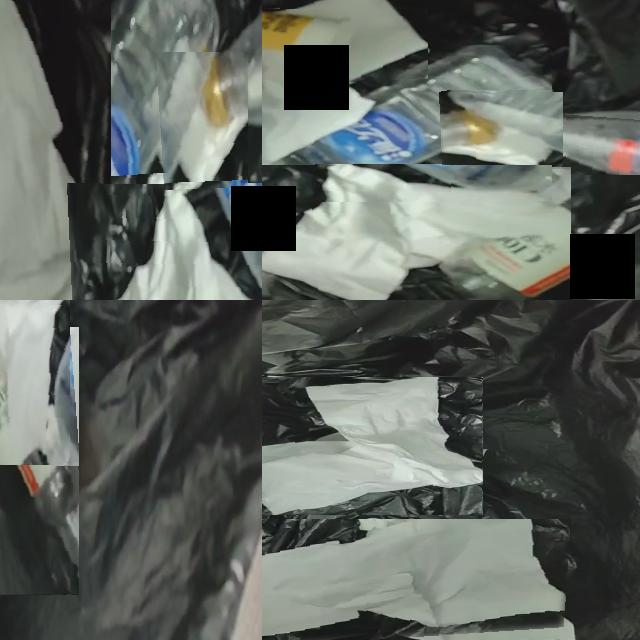bottle: (26, 0, 217, 300), (262, 45, 552, 203), (0, 328, 79, 586), (505, 112, 640, 175), (262, 224, 373, 296), (203, 13, 262, 128)
dixie_cup: (262, 13, 351, 72)
paper: (262, 166, 571, 300), (262, 519, 567, 639), (0, 0, 111, 300), (262, 378, 482, 515), (262, 50, 369, 183), (160, 52, 248, 190), (281, 0, 428, 82), (0, 300, 62, 465), (441, 93, 563, 165)
